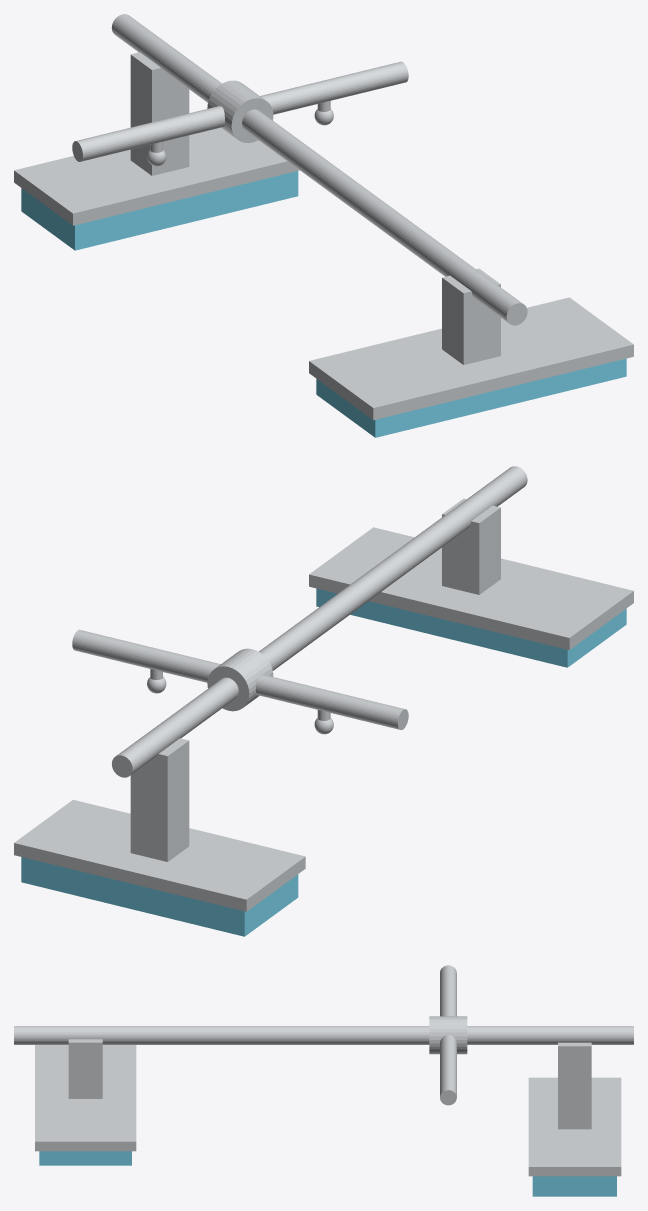
File: facemask.glb
3 renders of one model, top to bottom at view 1: azimuth 30°, elevation 25°; view 2: azimuth 150°, elevation 25°; view 3: azimuth 270°, elevation 25°, orthographic. The views are drawn at different scales.
Visible parts, largest first — view 1: Forehead_Backplate, Chin_Backplate, Main_Vertical_Rod, Chin_Pad, Horizontal_Crossbar, Forehead_Pad, Chin_Clamp, Forehead_Clamp, Crossbar_Collar; view 2: Forehead_Backplate, Chin_Backplate, Main_Vertical_Rod, Chin_Pad, Horizontal_Crossbar, Chin_Clamp, Forehead_Pad, Forehead_Clamp, Crossbar_Collar; view 3: Main_Vertical_Rod, Forehead_Backplate, Chin_Backplate, Chin_Clamp, Forehead_Clamp, Horizontal_Crossbar, Chin_Pad, Forehead_Pad, Crossbar_Collar.
Part boxes in pixels (x1,y1,x2,y2): Forehead_Backplate: (309, 297, 633, 420); Chin_Backplate: (14, 127, 299, 225); Main_Vertical_Rod: (111, 14, 527, 325); Chin_Pad: (21, 171, 298, 250); Horizontal_Crossbar: (72, 61, 408, 161); Forehead_Pad: (316, 358, 626, 437); Chin_Clamp: (130, 52, 189, 175); Forehead_Clamp: (442, 268, 500, 364); Crossbar_Collar: (207, 80, 273, 142); Forehead_Backplate: (309, 527, 633, 649); Chin_Backplate: (14, 799, 305, 911); Main_Vertical_Rod: (112, 466, 527, 777); Chin_Pad: (21, 857, 298, 936); Horizontal_Crossbar: (72, 629, 408, 729); Chin_Clamp: (130, 738, 189, 861); Forehead_Pad: (316, 588, 626, 667); Forehead_Clamp: (442, 498, 500, 594); Crossbar_Collar: (207, 648, 273, 711); Main_Vertical_Rod: (14, 1026, 633, 1044); Forehead_Backplate: (35, 1045, 136, 1151); Chin_Backplate: (528, 1077, 621, 1176); Chin_Clamp: (558, 1042, 591, 1129); Forehead_Clamp: (68, 1039, 102, 1098); Horizontal_Crossbar: (440, 965, 456, 1105); Chin_Pad: (532, 1176, 616, 1196); Forehead_Pad: (39, 1151, 131, 1165); Crossbar_Collar: (429, 1016, 467, 1054).
Size of the model in its own units: 70 by 35.5 by 147.
